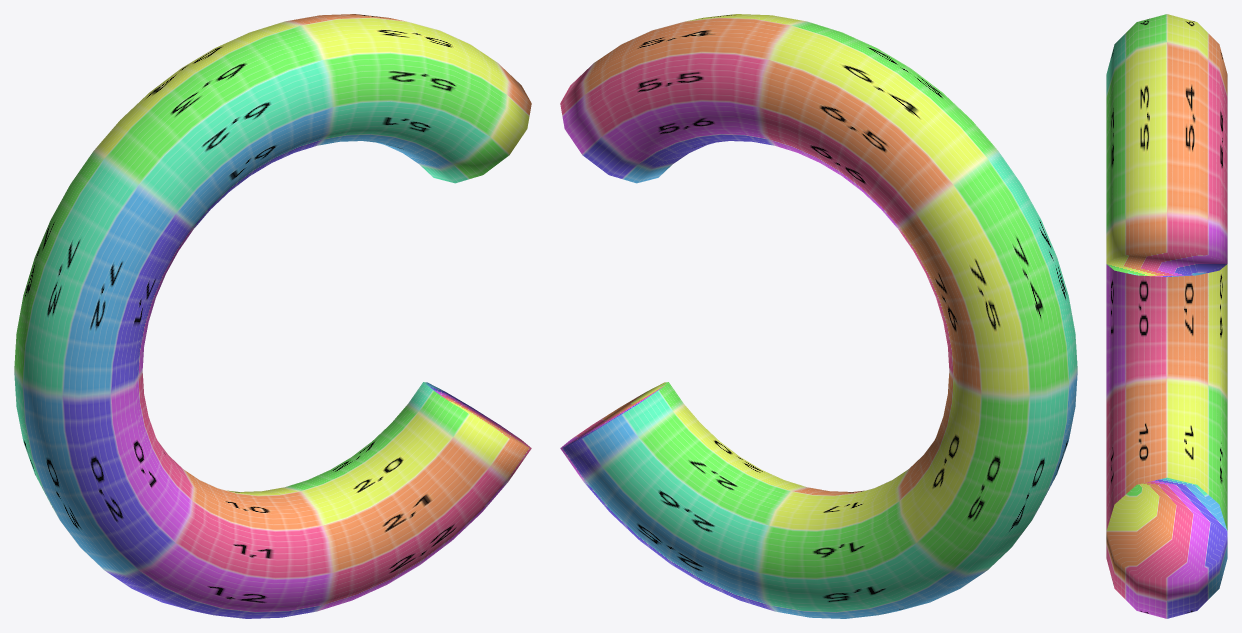
Rendered from playerLeftHand.obj.
3 views of the same model, side by side, from view 1: azimuth 30°, elevation 25°; view 2: azimuth 150°, elevation 25°; view 3: azimuth 270°, elevation 25° (orthographic). The views are drawn at different scales.
Visible parts, largest first — view 1: トーラス; view 2: トーラス; view 3: トーラス.
Part boxes in pixels (x1=…): トーラス: x1=14, y1=14, x2=531, y2=618; トーラス: x1=560, y1=14, x2=1077, y2=618; トーラス: x1=1106, y1=14, x2=1227, y2=618.
Bounding box in the file's own units: 2.24 × 2.5 × 0.5.
1 material, 1 textured.
